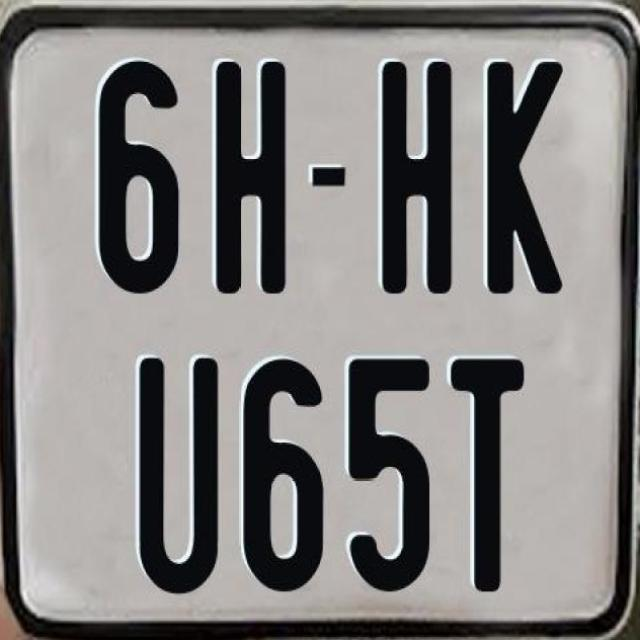license-plate: (7, 0, 612, 640)
